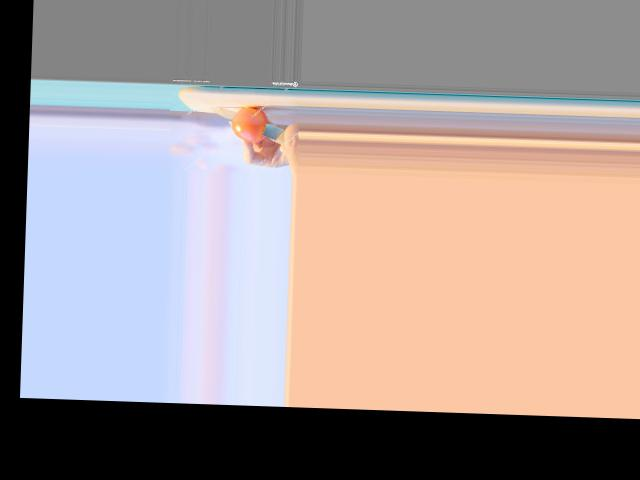tomato: (230, 105, 268, 142)
